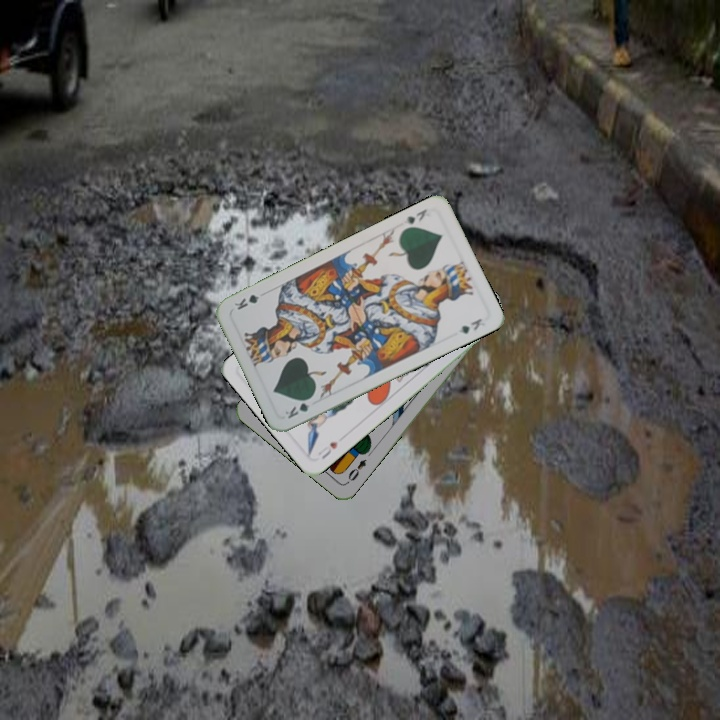EO: (343, 455, 369, 486)
GK: (281, 392, 316, 421), (400, 205, 430, 227)
HU: (314, 437, 341, 462)
